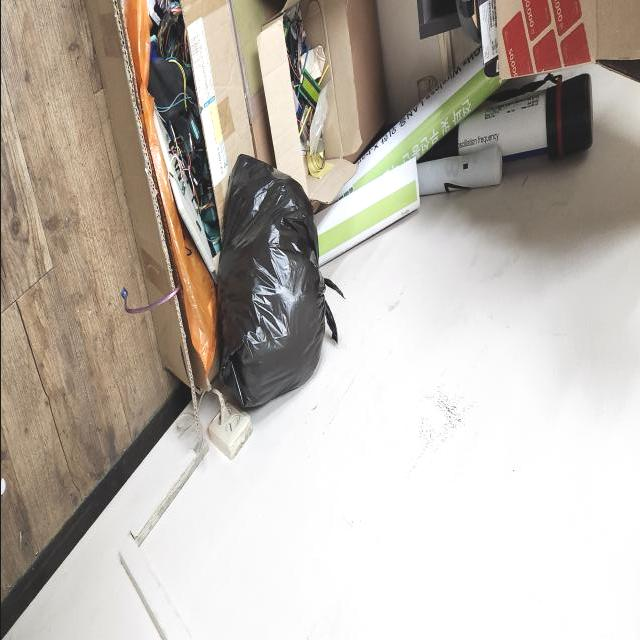black_bag: (214, 155, 342, 414)
